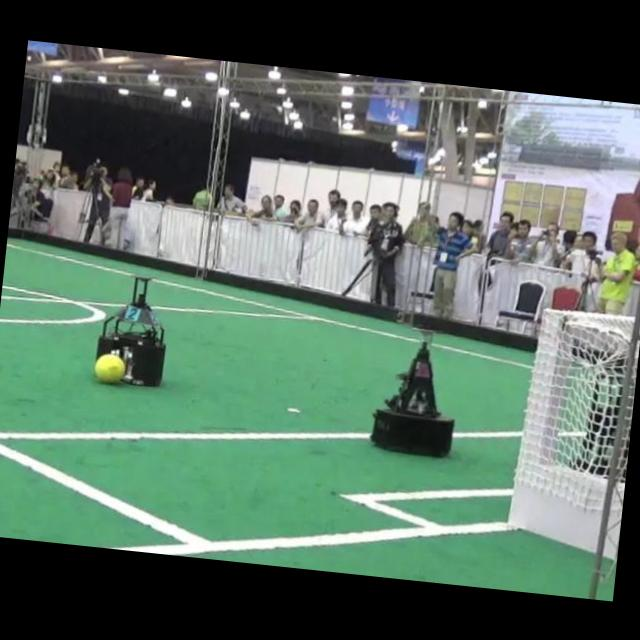ball: (94, 353, 125, 381)
robot: (371, 340, 453, 455), (96, 275, 164, 385)
